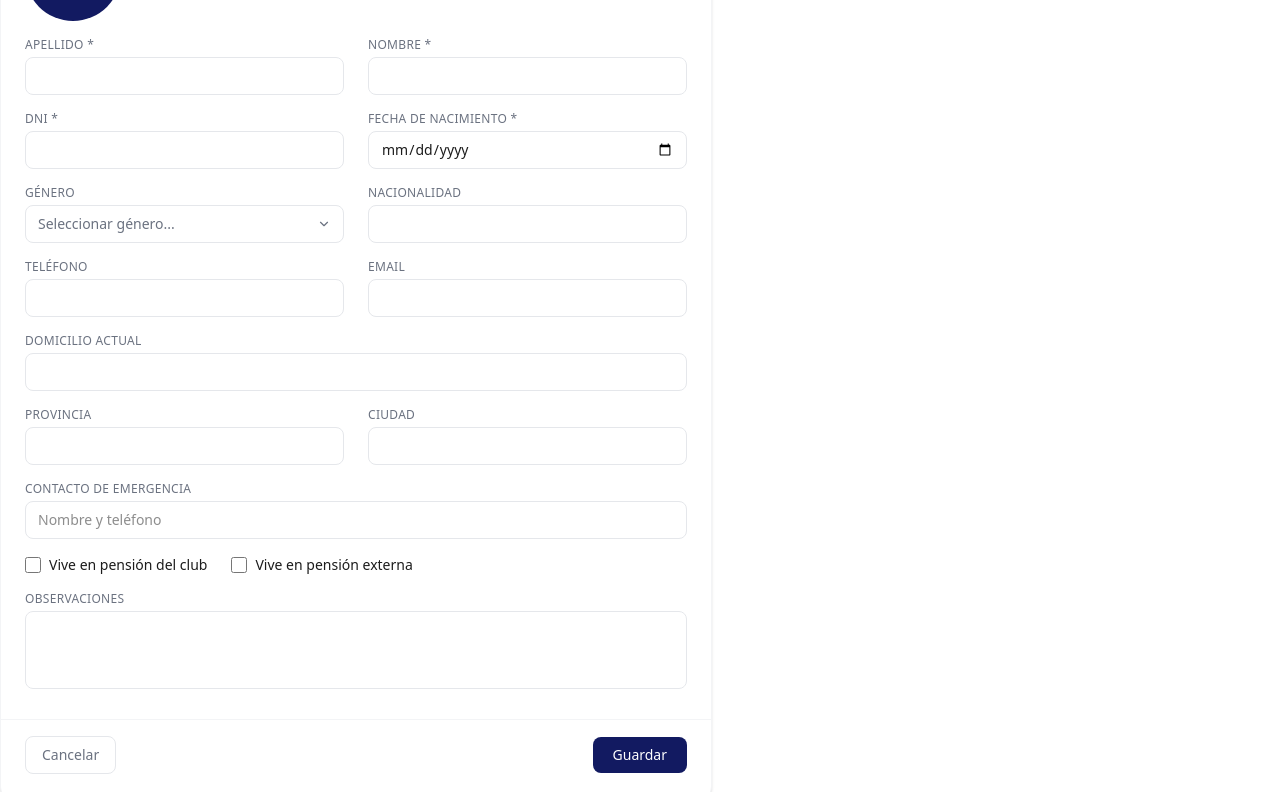
Scenario: DeportistaForm — mode=create › pestaña Personal con errores muestra indicador visual
(page scrolled)
Click the button "Guardar": (640, 755) [593, 737, 687, 773]
(page scrolled)
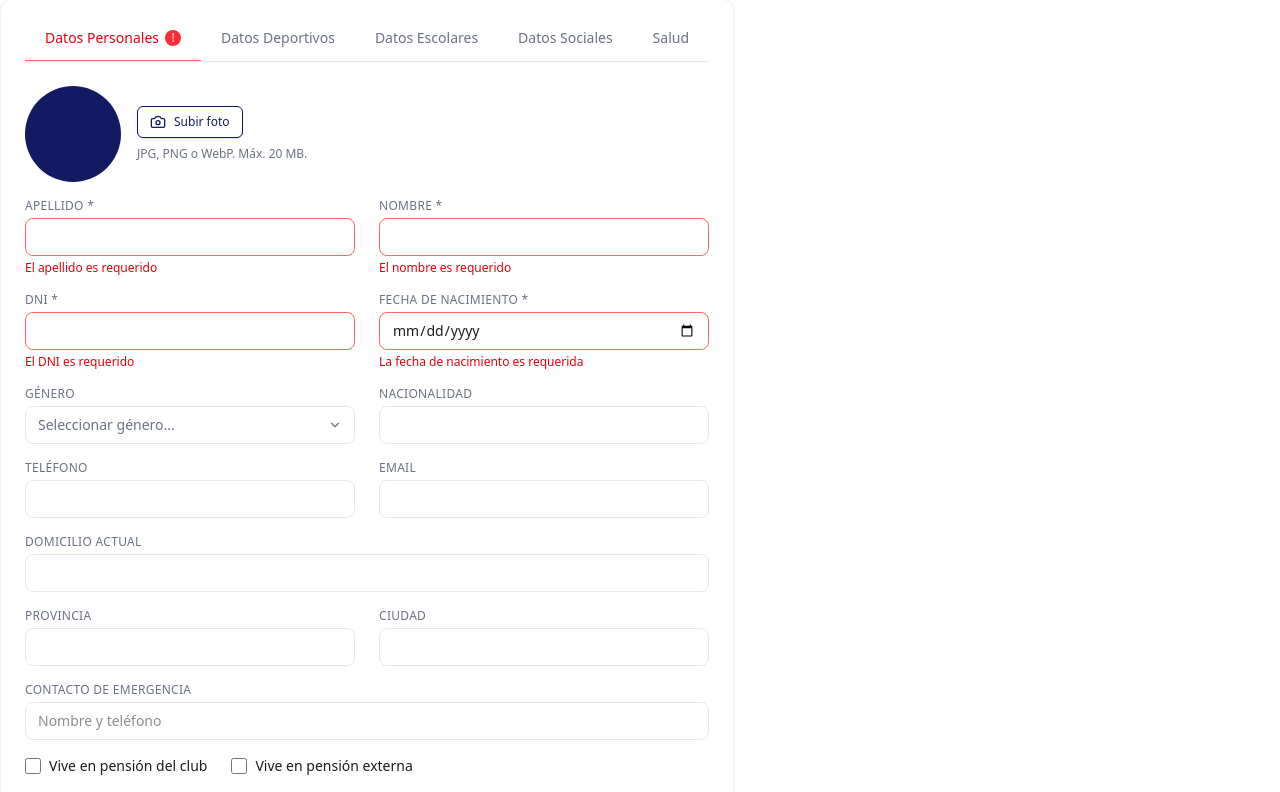
Expected: the text "!" is shown, [165, 30, 181, 46]
